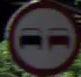No overtake: (10, 8, 71, 62)
